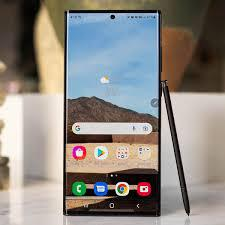Smartphone: (65, 10, 161, 217)
